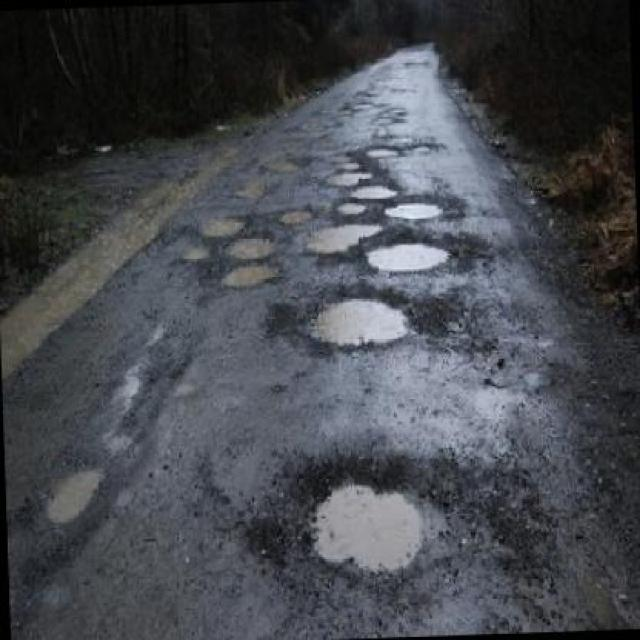pothole: (294, 454, 440, 578), (300, 286, 418, 351), (360, 232, 454, 276), (41, 462, 107, 522), (302, 218, 384, 256), (219, 260, 284, 289), (380, 195, 446, 222), (223, 236, 277, 262), (197, 213, 248, 236), (323, 167, 374, 185), (347, 182, 395, 200), (364, 142, 399, 158), (278, 205, 312, 221)
